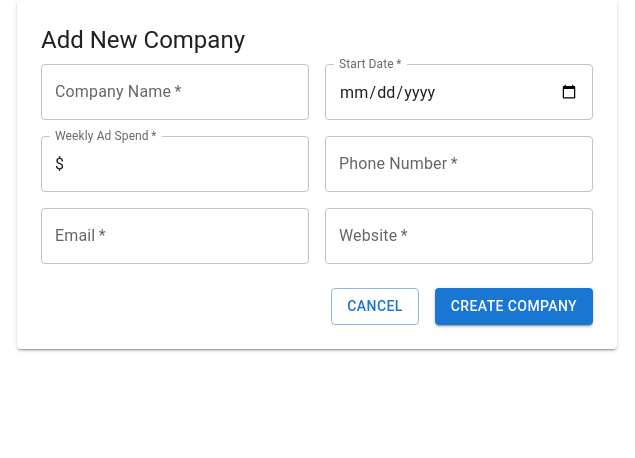
Test: CompanyForm › Create Mode › validates website URL format
In the field labelled "Website *": (459, 236) [325,208,593,264], type "invalid-url"
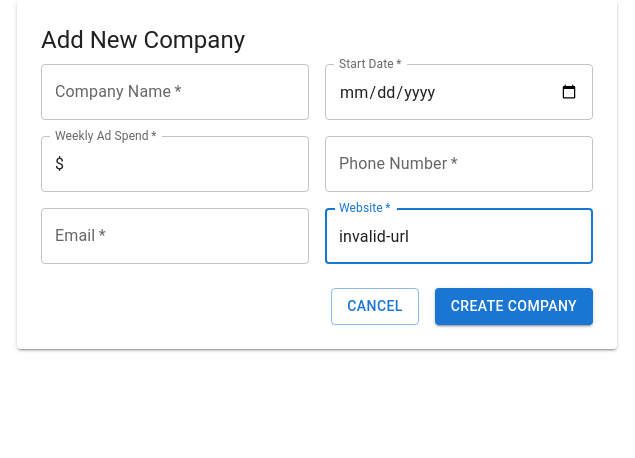
Click the button "Create Company": (514, 307) [435,288,593,325]
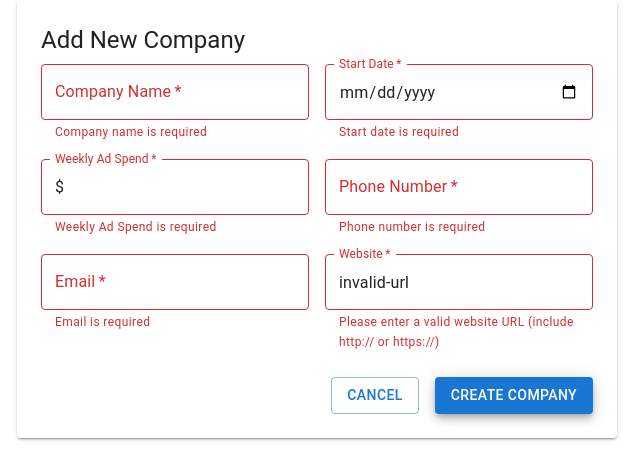
expect the text "Please enter a valid website URL (include http:// or https://)" is shown: met, box [339,313,579,353]
